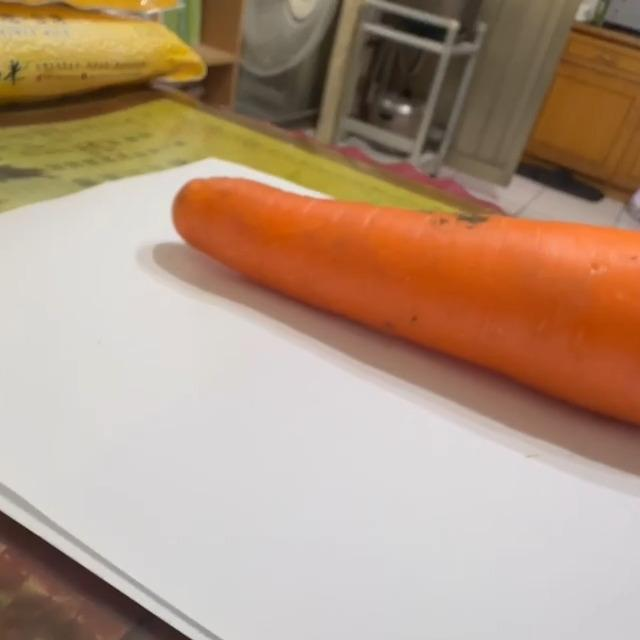carrot: (171, 174, 640, 435)
